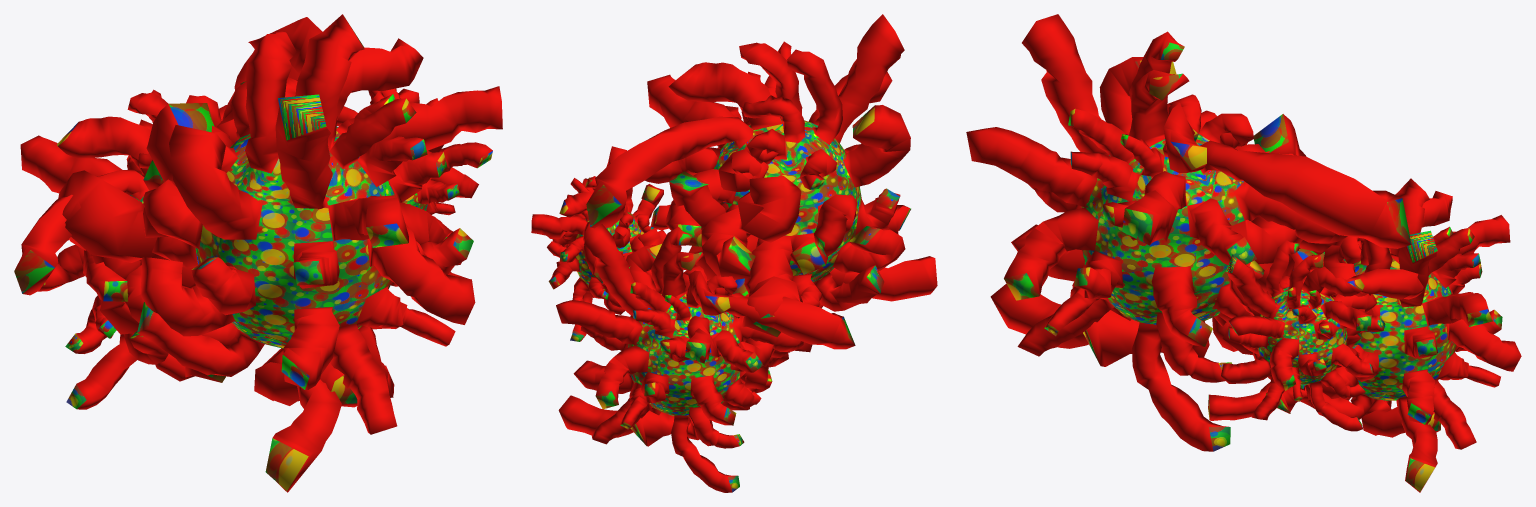
The model's file is Virus.gltf.
3 renders of one model, left to right at view 1: azimuth 30°, elevation 25°; view 2: azimuth 150°, elevation 25°; view 3: azimuth 270°, elevation 25°, orthographic. The views are drawn at different scales.
Parts seen in each view (by area): view 1: Sphere.002, Sphere.001, Sphere; view 2: Sphere.002, Sphere.001, Sphere; view 3: Sphere.002, Sphere.001, Sphere.
Part boxes in pixels (x1,y1,x2,y2): Sphere.002: (58, 14, 502, 492); Sphere.001: (14, 53, 252, 409); Sphere: (336, 88, 492, 278); Sphere.002: (586, 14, 937, 337); Sphere.001: (556, 224, 855, 492); Sphere: (531, 146, 666, 341); Sphere.002: (966, 14, 1411, 451); Sphere.001: (1212, 178, 1521, 492); Sphere: (1208, 240, 1423, 431).
Size of the model in its own units: 0.7963 by 0.8298 by 1.02.
Materials: 3 (3 with a texture image).
